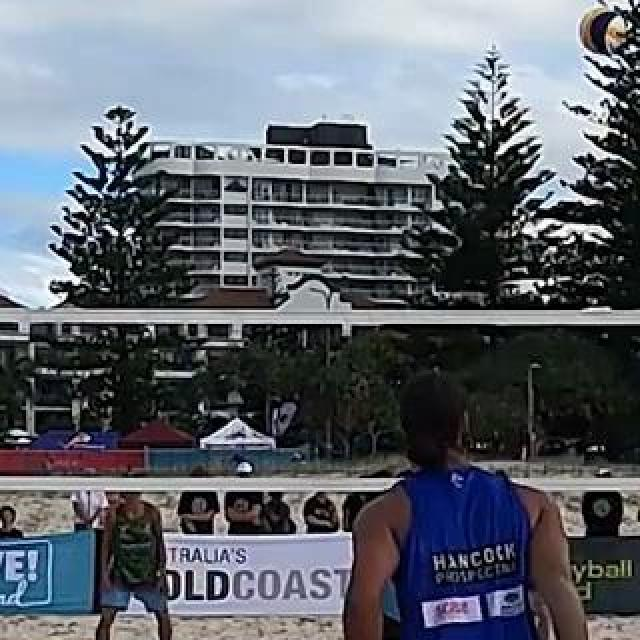volleyball: (579, 8, 627, 54)
